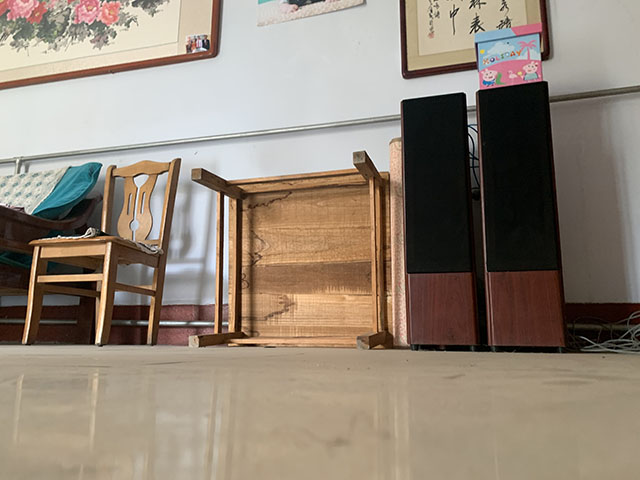stool: (21, 157, 183, 348)
table: (186, 149, 394, 351)
wire: (565, 310, 640, 356)
